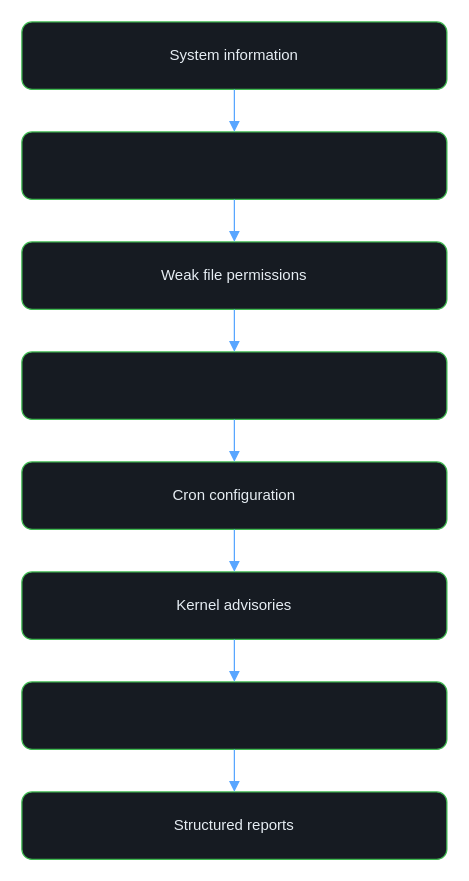
The diagram is 469 pixels wide and 881 high, and some of its shapes have lost their labels. The box of each missing label's shape, as (x1, y1, x2, y2) in pixels:
Analysis rules: (21, 681, 447, 749)
Services and sudo: (21, 351, 447, 419)
SUID / SGID discovery: (21, 131, 447, 199)
